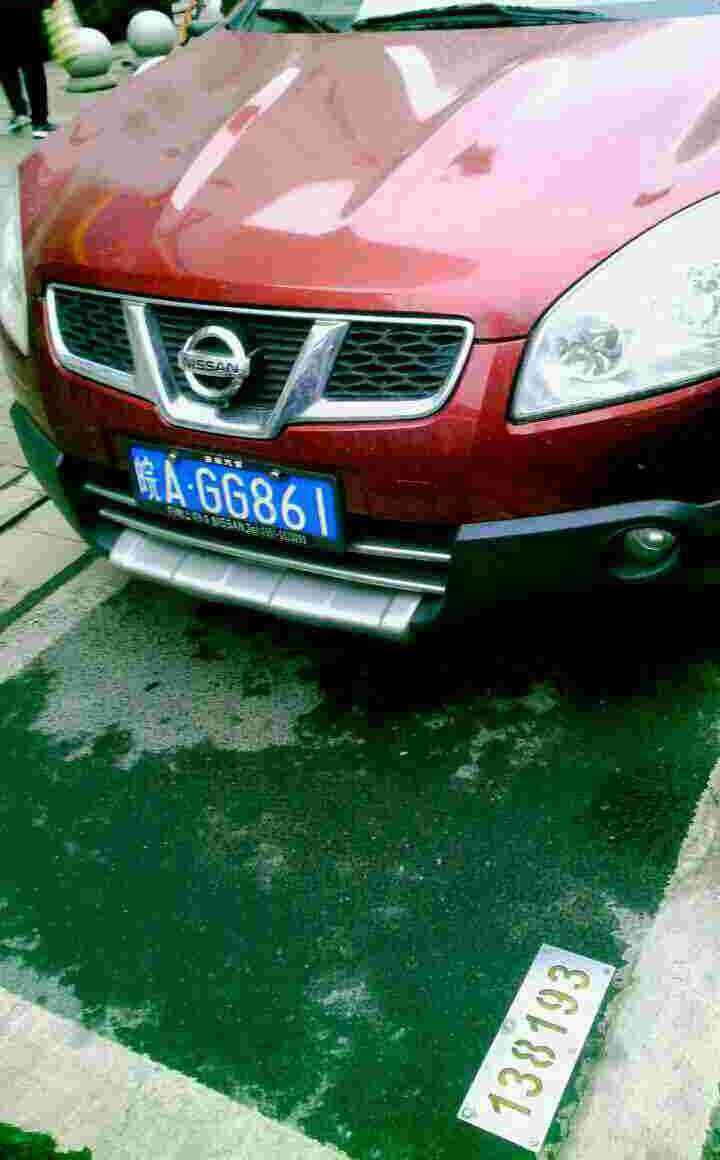car: (115, 447, 356, 549)
